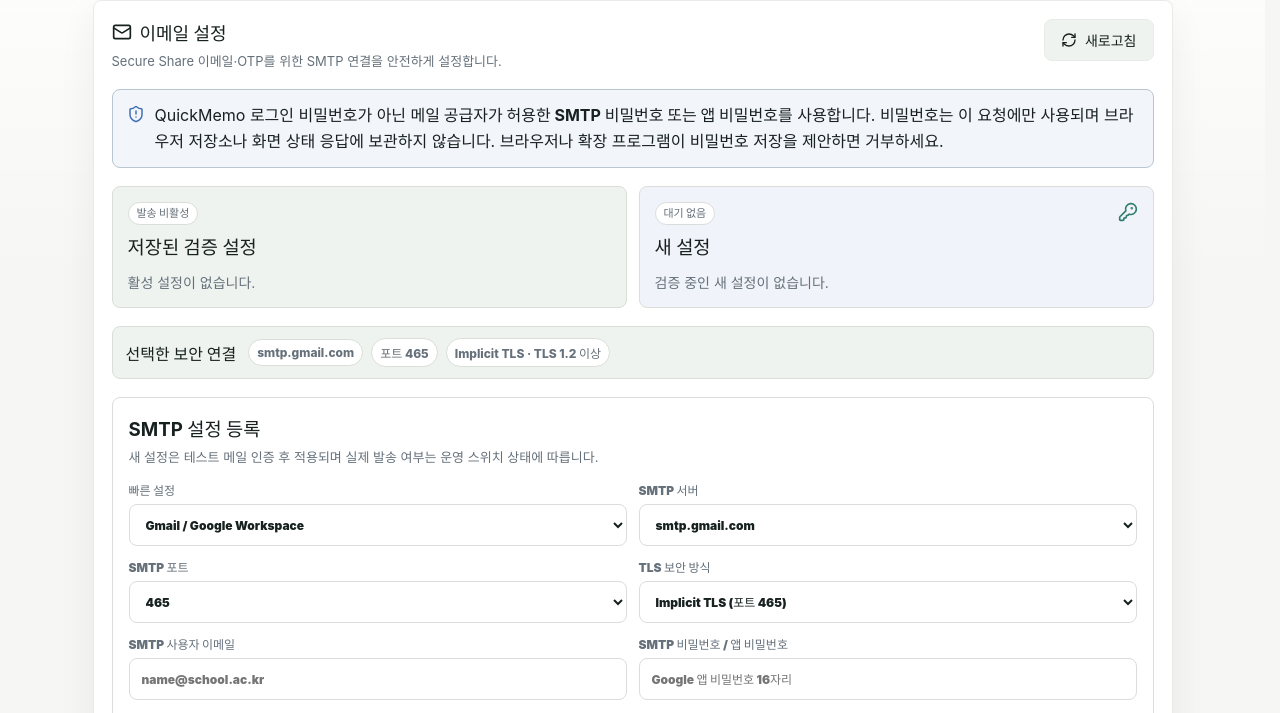
AdminEmailSettingsPanel › offers only trusted Gmail and Outlook profiles and explains the Modern Auth limit
The image size is (1280, 713).
Expected: the dropdown labelled "빠른 설정" is enabled, [128,504,626,546]
Expected: the dropdown labelled "SMTP 서버" shows "smtp.gmail.com", [638,504,1136,546]
Type "abcdefghijklmnop" into the password field labelled "SMTP 비밀번호 / 앱 비밀번호" at (888, 680), box [638,658,1136,700]
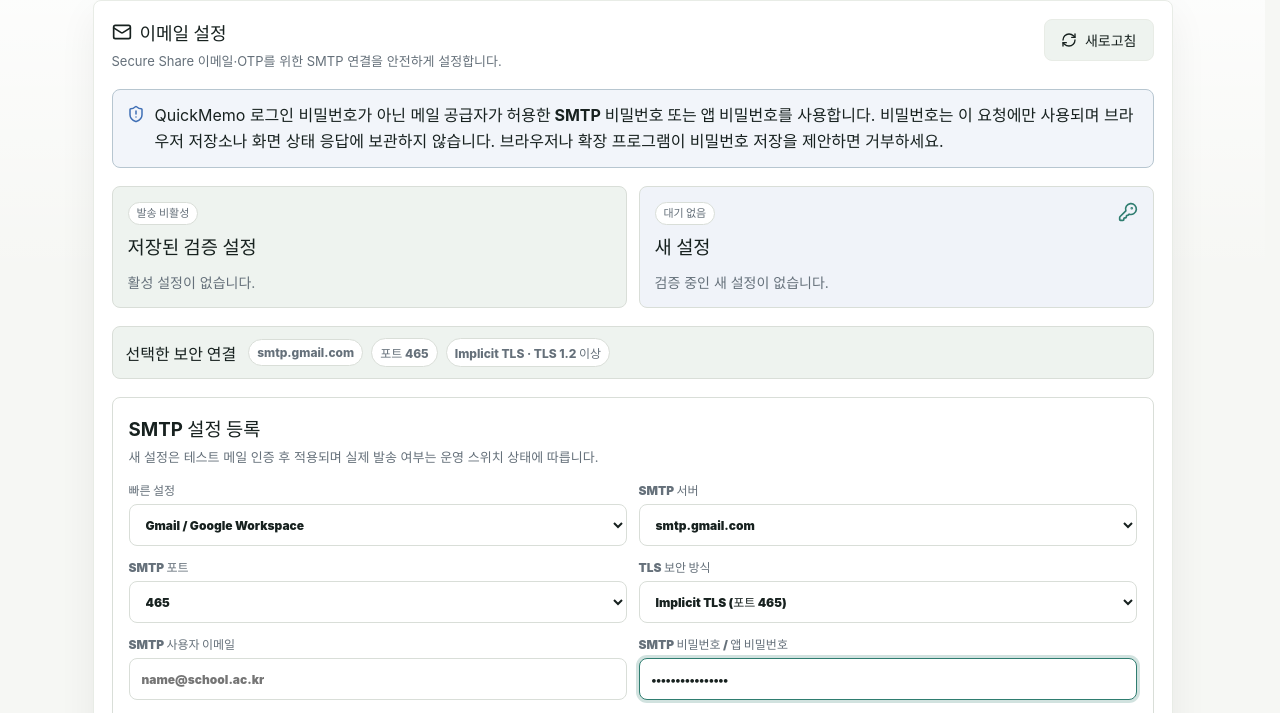
Select "Outlook.com" in the dropdown labelled "빠른 설정" at (378, 526), box [128,504,626,546]
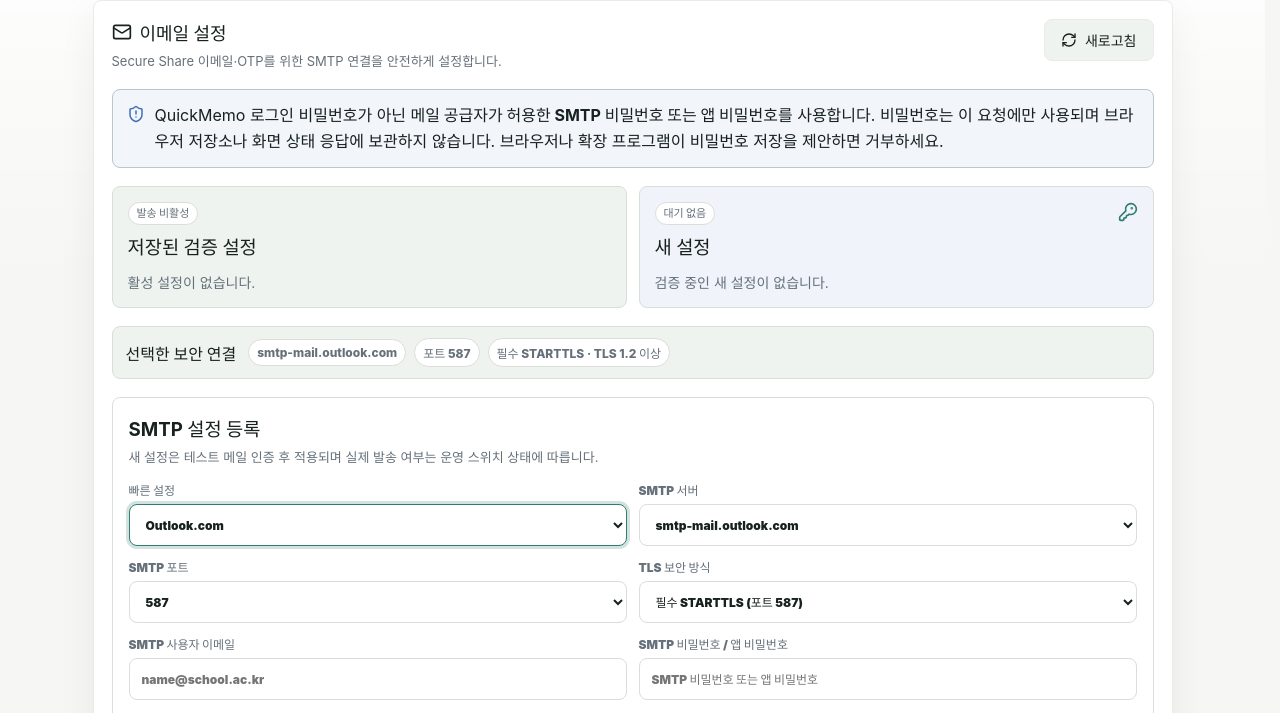
Now the dropdown labelled "SMTP 서버" shows "smtp-mail.outlook.com", box [638,504,1136,546]
Now the dropdown labelled "SMTP 포트" shows "587", box [128,582,626,624]
Now the dropdown labelled "TLS 보안 방식" shows "필수 STARTTLS (포트 587)", box [638,582,1136,624]
Select "Microsoft 365 비즈니스·학교" in the dropdown labelled "빠른 설정" at (378, 526), box [128,504,626,546]
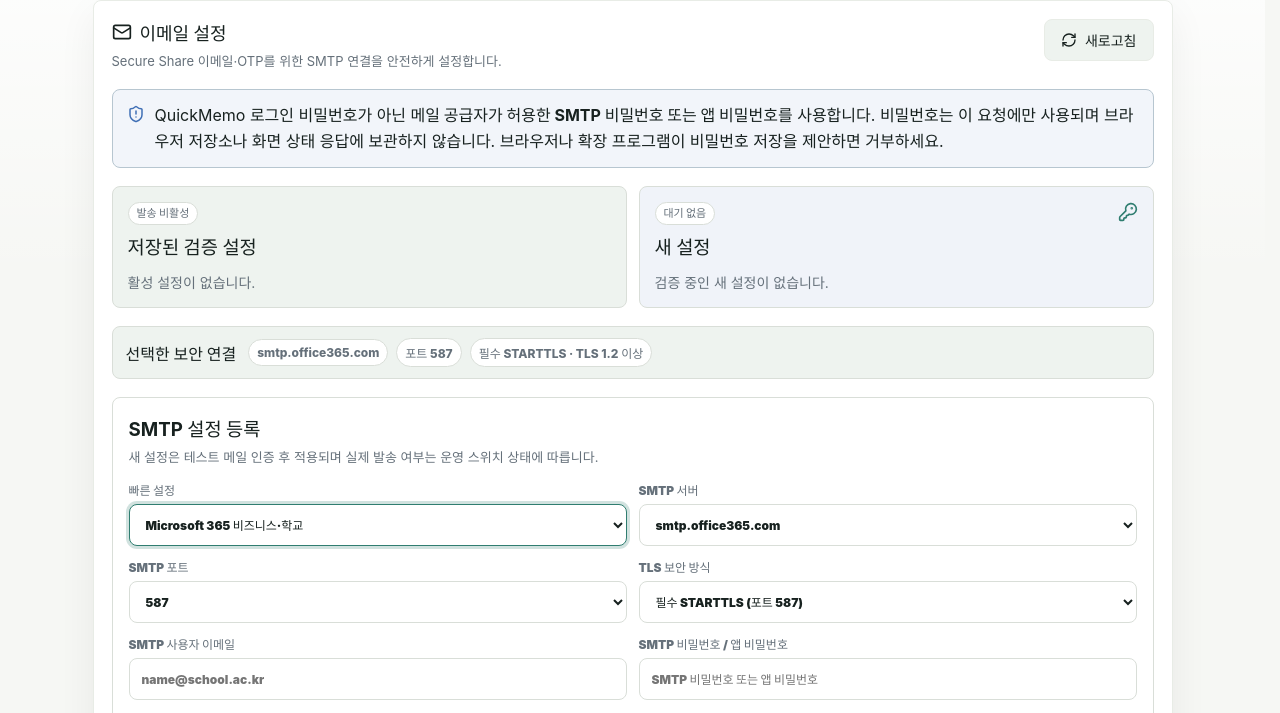
Now the dropdown labelled "SMTP 포트" shows "587", box [128,582,626,624]
Now the dropdown labelled "SMTP 서버" shows "smtp.office365.com", box [638,504,1136,546]
